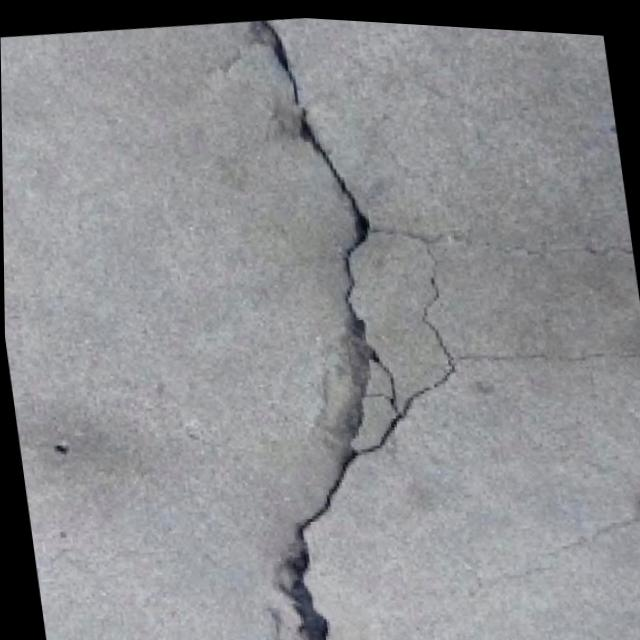Crack: (174, 8, 480, 640)
